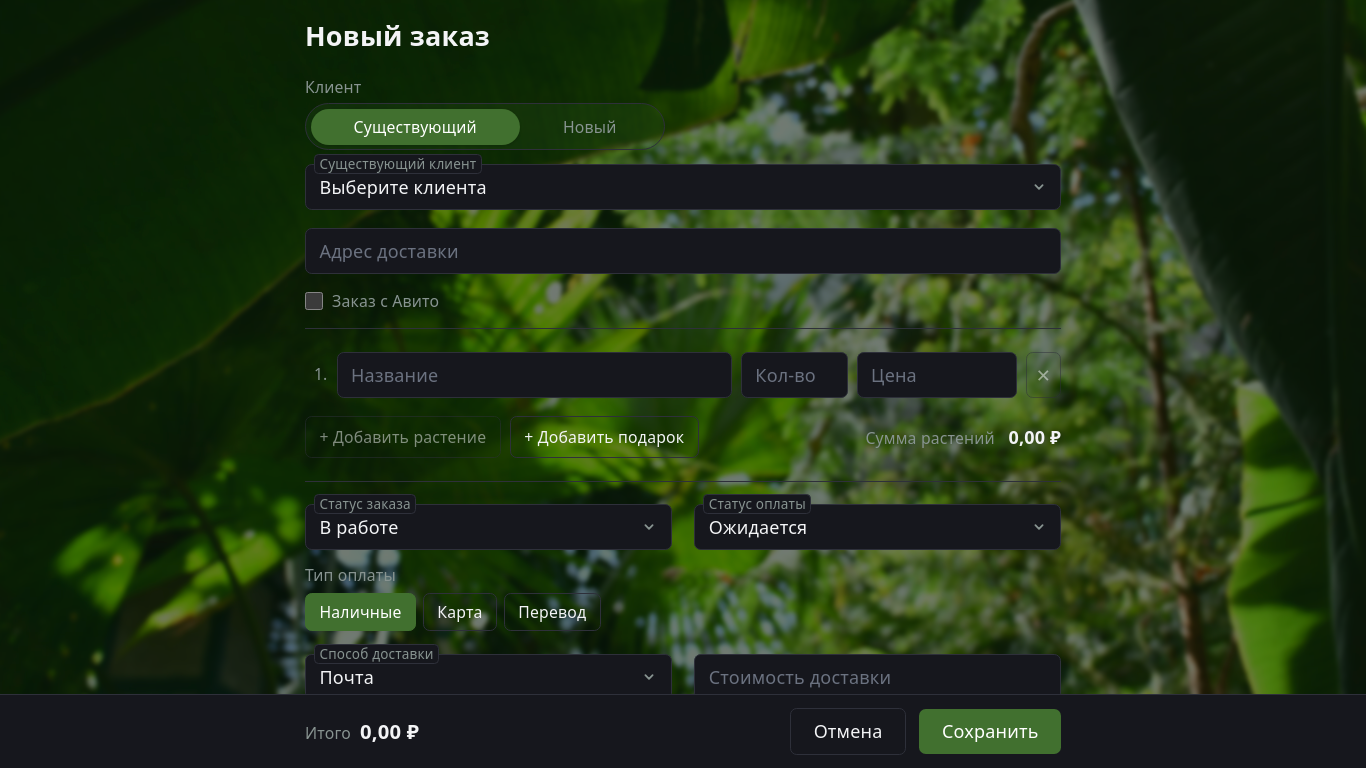
Scenario: NewOrderPage › clears the "select a customer" error once a customer is picked
Submit with the placeholder still selected → error.
Click the button "Сохранить".
click(990, 731)  # box [920,709,1061,754]
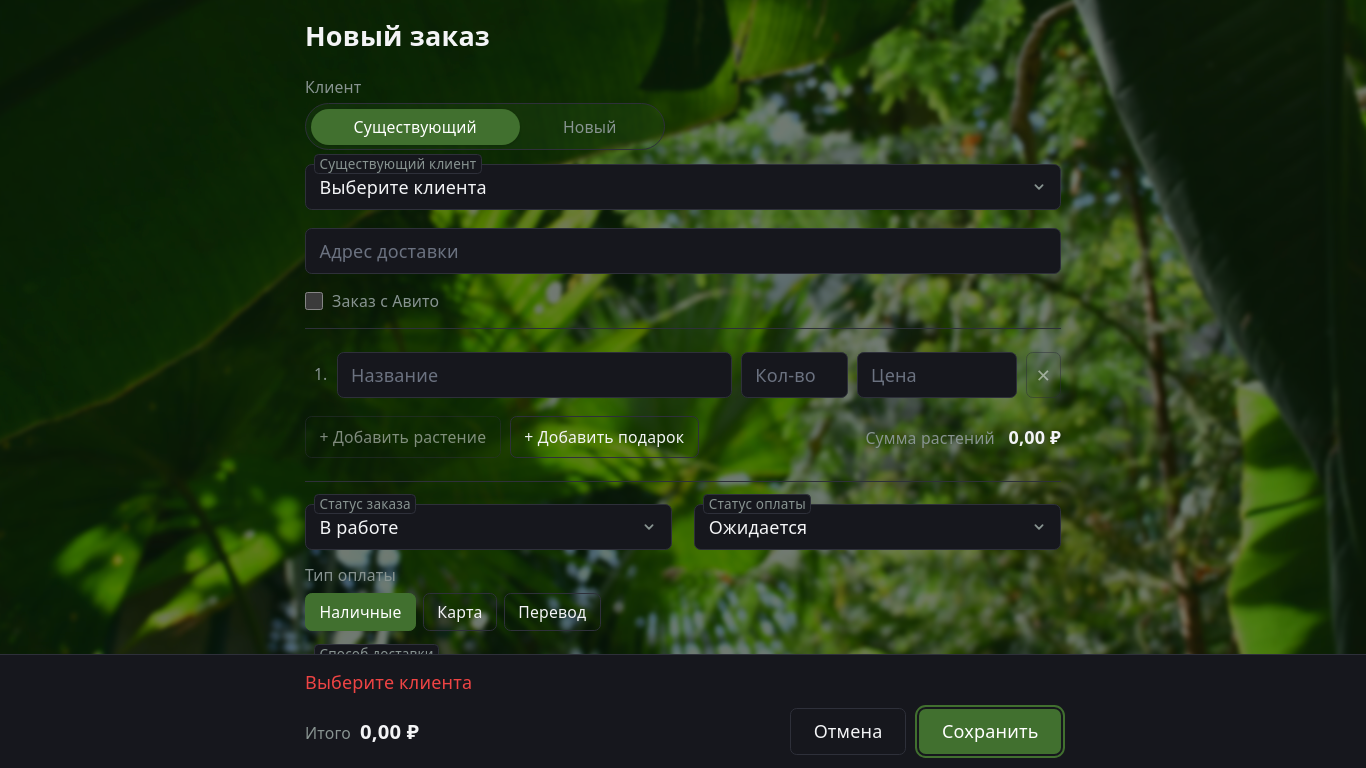
Now the message reads "Выберите клиента", box [305,670,472,694]
Picking a real customer clears exactly that error.
Select "Анна" in the dropdown labelled "Существующий клиент" at (683, 187), box [305,164,1061,210]
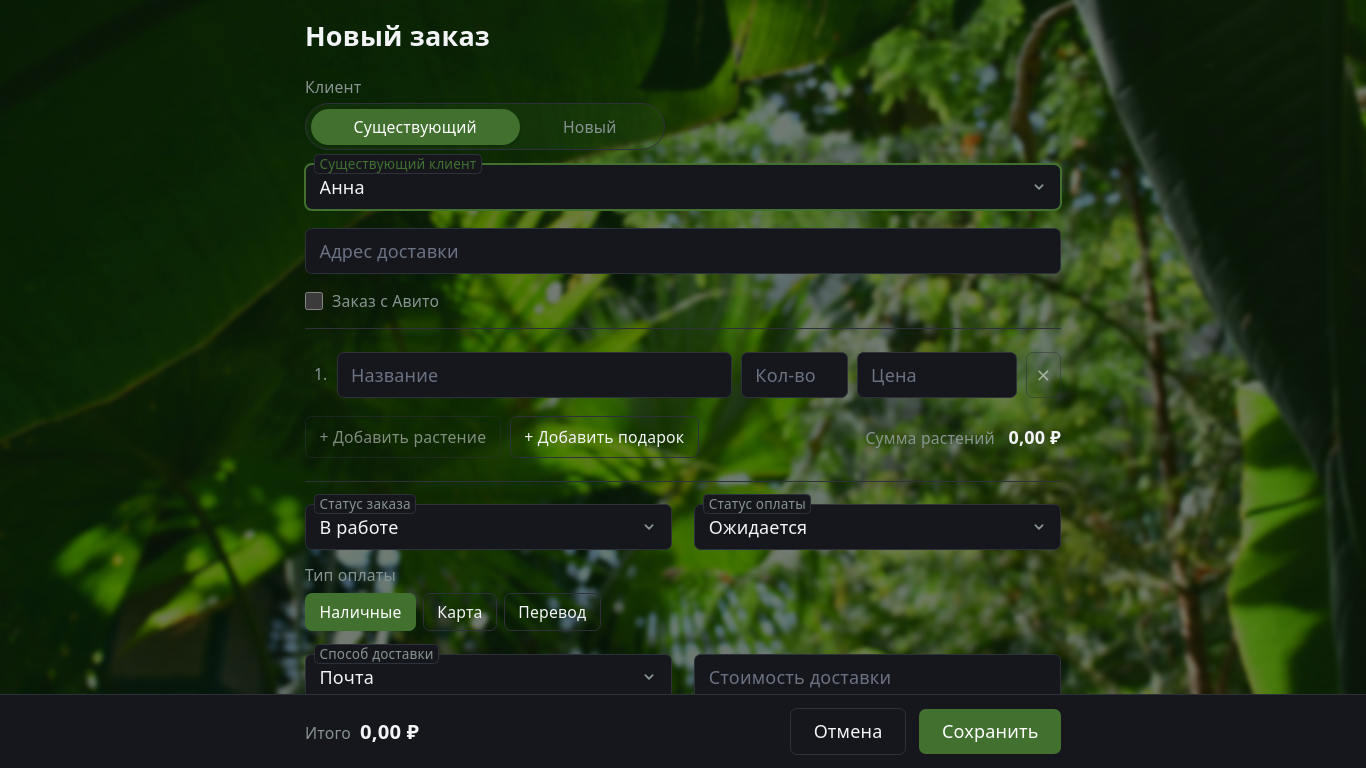
Now the message "Выберите клиента" is gone
